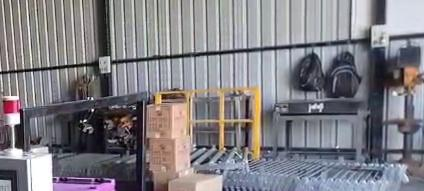box: (53, 177, 114, 190)
